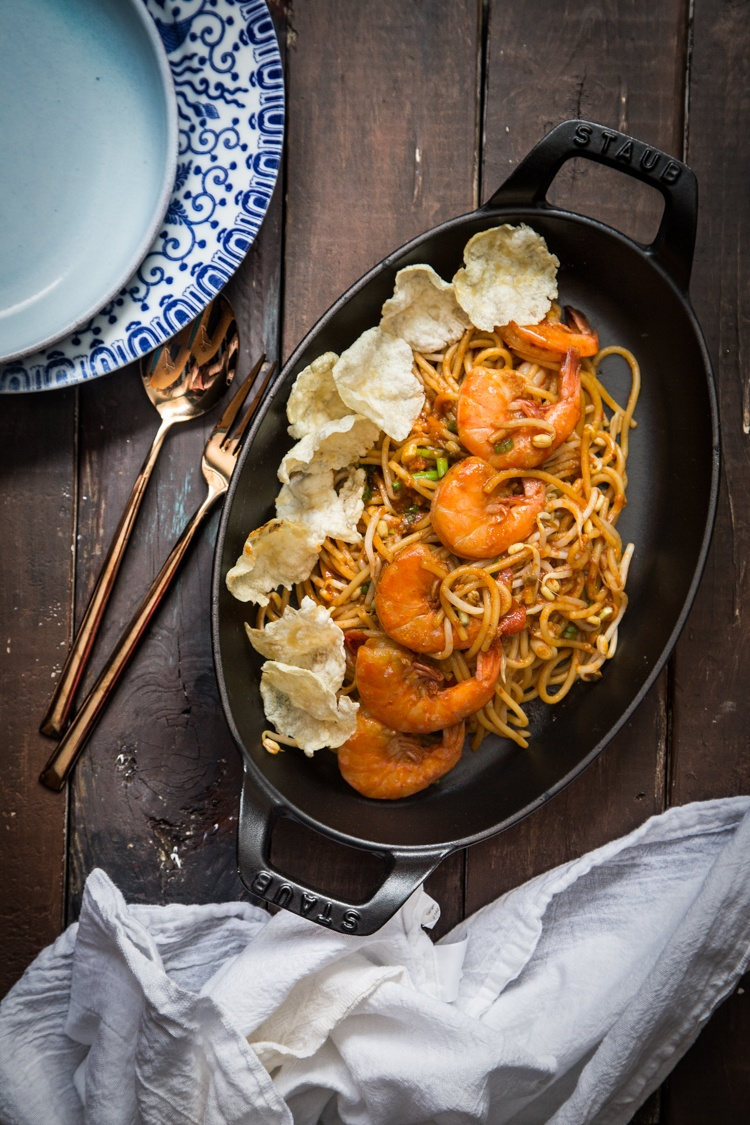mie_aceh: (287, 282, 630, 805)
